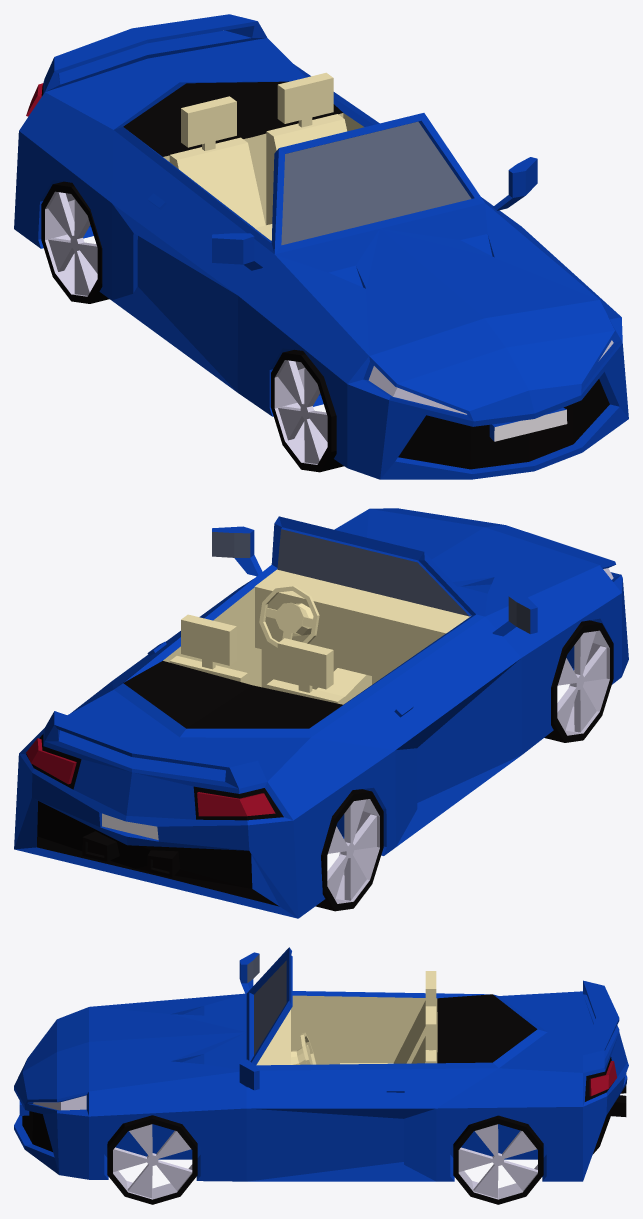
File: Roadster.glb
The picture shows the model from 3 angles, top to bottom: view 1: azimuth 30°, elevation 25°; view 2: azimuth 150°, elevation 25°; view 3: azimuth 270°, elevation 25°; orthographic projection. The views are drawn at different scales.
Parts seen in each view (by area): view 1: Roadster, Roadster wheel front right, Roadster wheel rear right; view 2: Roadster, Roadster wheel front right, Roadster wheel rear right; view 3: Roadster, Roadster wheel front left, Roadster wheel rear left.
Boxes of the visible parts, x1=… form: Roadster: x1=14, y1=14, x2=628, y2=479; Roadster wheel front right: x1=271, y1=349, x2=343, y2=472; Roadster wheel rear right: x1=41, y1=181, x2=109, y2=303; Roadster: x1=14, y1=508, x2=628, y2=918; Roadster wheel front right: x1=544, y1=620, x2=613, y2=742; Roadster wheel rear right: x1=315, y1=789, x2=383, y2=911; Roadster: x1=14, y1=947, x2=628, y2=1181; Roadster wheel front left: x1=107, y1=1115, x2=197, y2=1204; Roadster wheel rear left: x1=453, y1=1115, x2=543, y2=1204.
Bounding box in the file's own units: 263 × 184 × 573.
